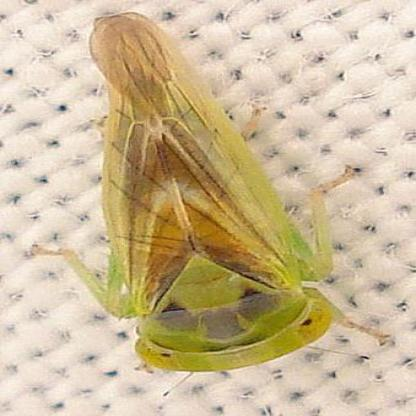green-leafhopper: (72, 17, 355, 373)
